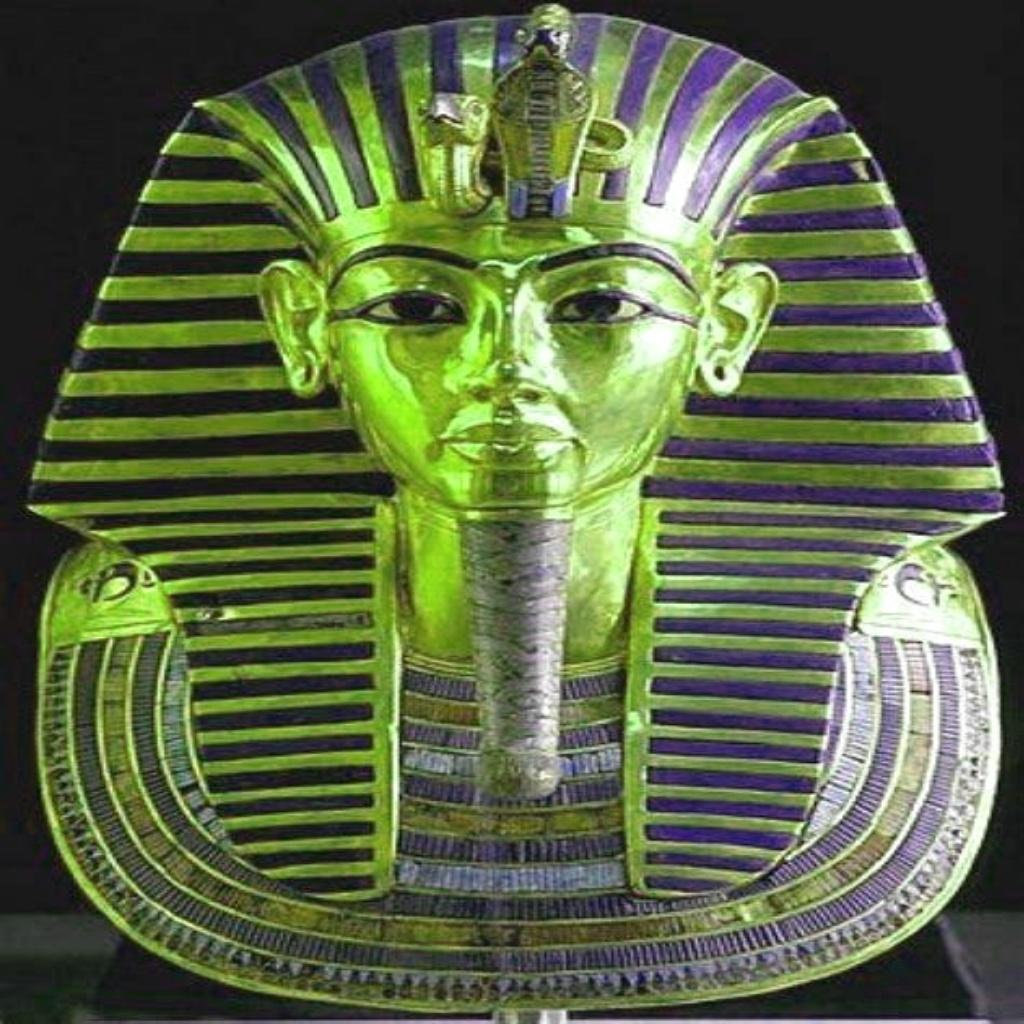Mask of Tutankhamun: (20, 2, 1008, 1014)
